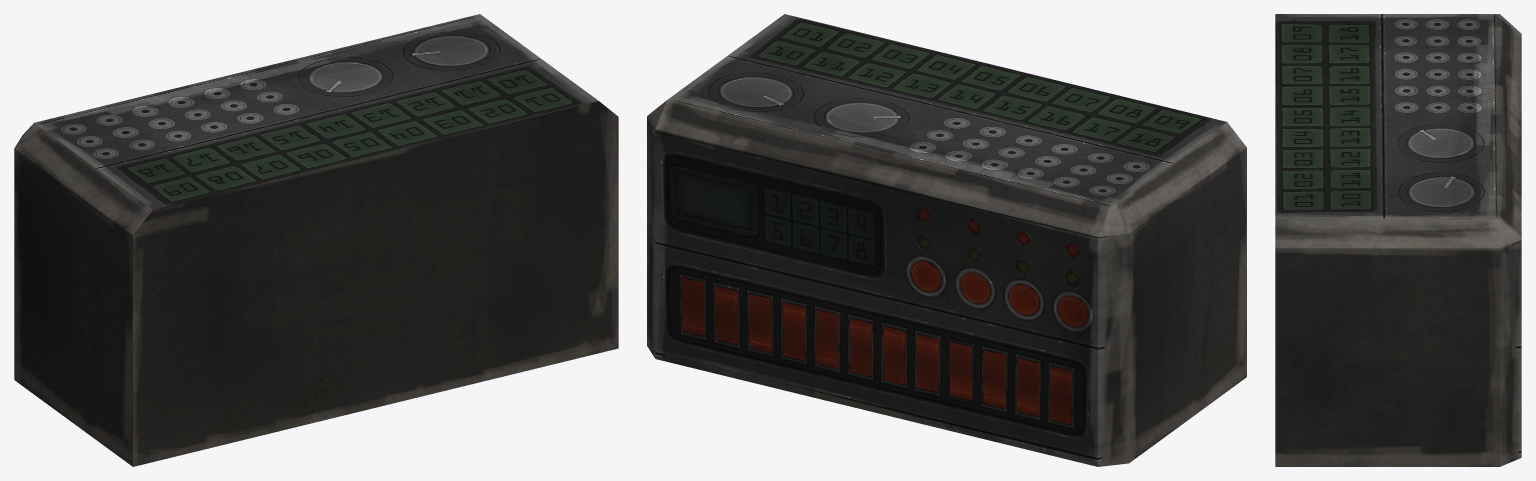
File: panel1.FBX
3 views of the same model, side by side, from view 1: azimuth 30°, elevation 25°; view 2: azimuth 150°, elevation 25°; view 3: azimuth 270°, elevation 25° (orthographic). The views are drawn at different scales.
Parts seen in each view (by area): view 1: panel1; view 2: panel1; view 3: panel1.
Part boxes in pixels (x1,y1,x2,y2): panel1: (14,14,618,466); panel1: (647,14,1246,466); panel1: (1275,14,1521,466).
Bounding box in the file's own units: 18.98 × 9.42 × 8.82.
